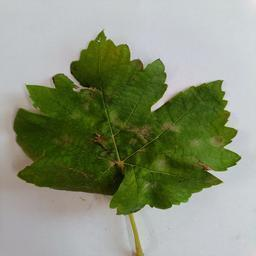Powdery-Mildew: (134, 118, 187, 147), (96, 101, 123, 147), (140, 156, 171, 195), (69, 98, 94, 127), (193, 134, 225, 152), (101, 44, 117, 61)
